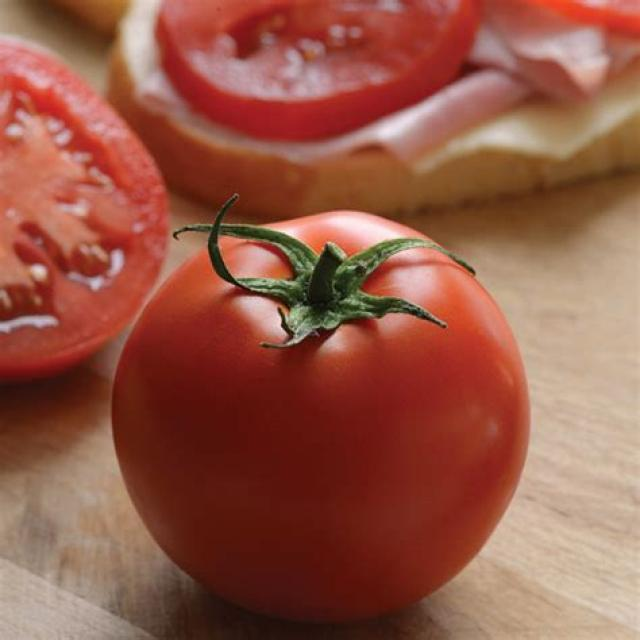Tomato: (110, 212, 532, 628)
